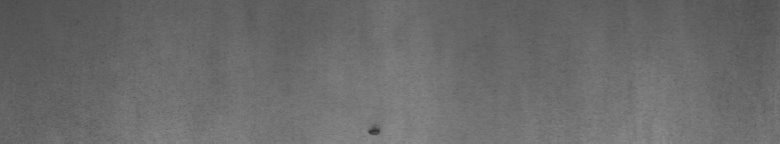fi: (363, 120, 384, 136)
